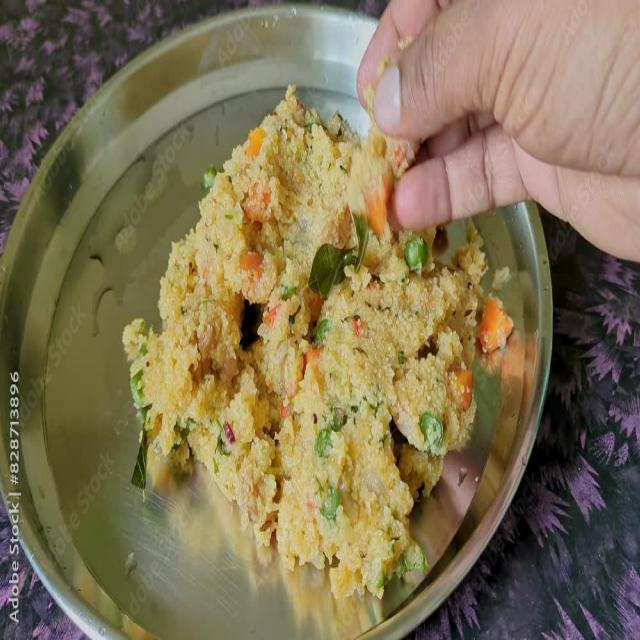UPMA: (111, 82, 552, 639), (138, 93, 497, 598)
